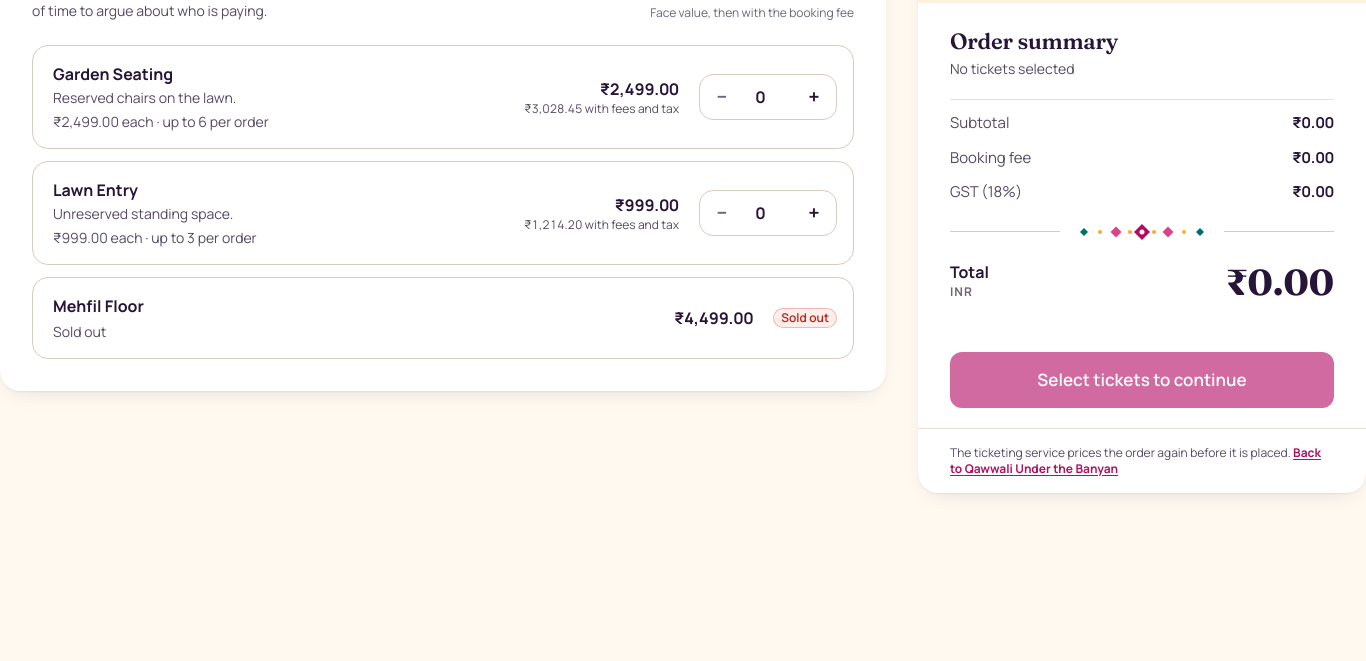
it: CheckoutBasket › clears a stale outcome as soon as the selection changes, and gives the holds back
What coordinates should you click on to do the following:
click the button named "Add one Garden Seating"
I would click on:
 (814, 97)
Its box is [792, 75, 836, 119].
(page scrolled)
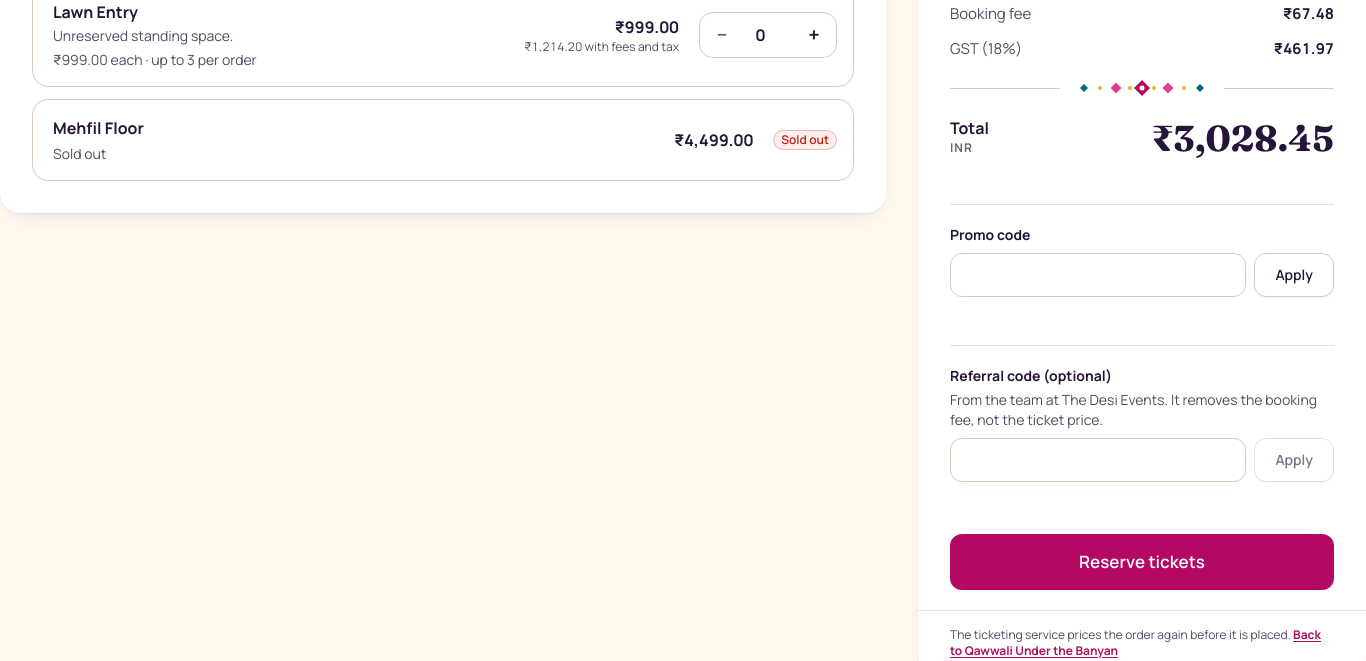
What coordinates should you click on to do the following:
click the button "Reserve tickets"
I would click on:
 (1142, 562)
Its box is [950, 534, 1334, 590].
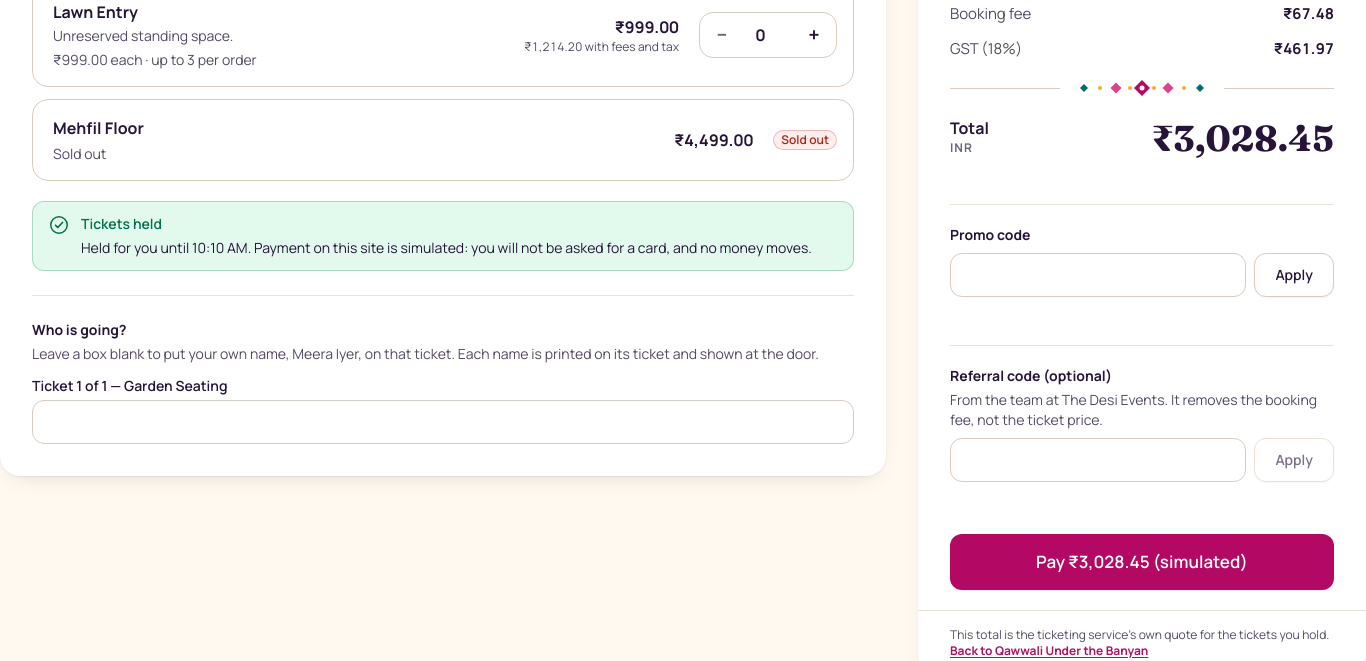
Expected: the text "Tickets held" is shown, [81, 214, 162, 233]
What coordinates should you click on to do the following:
click the button named "Add one Lawn Entry"
I would click on:
 (814, 35)
Its box is [792, 13, 836, 57].
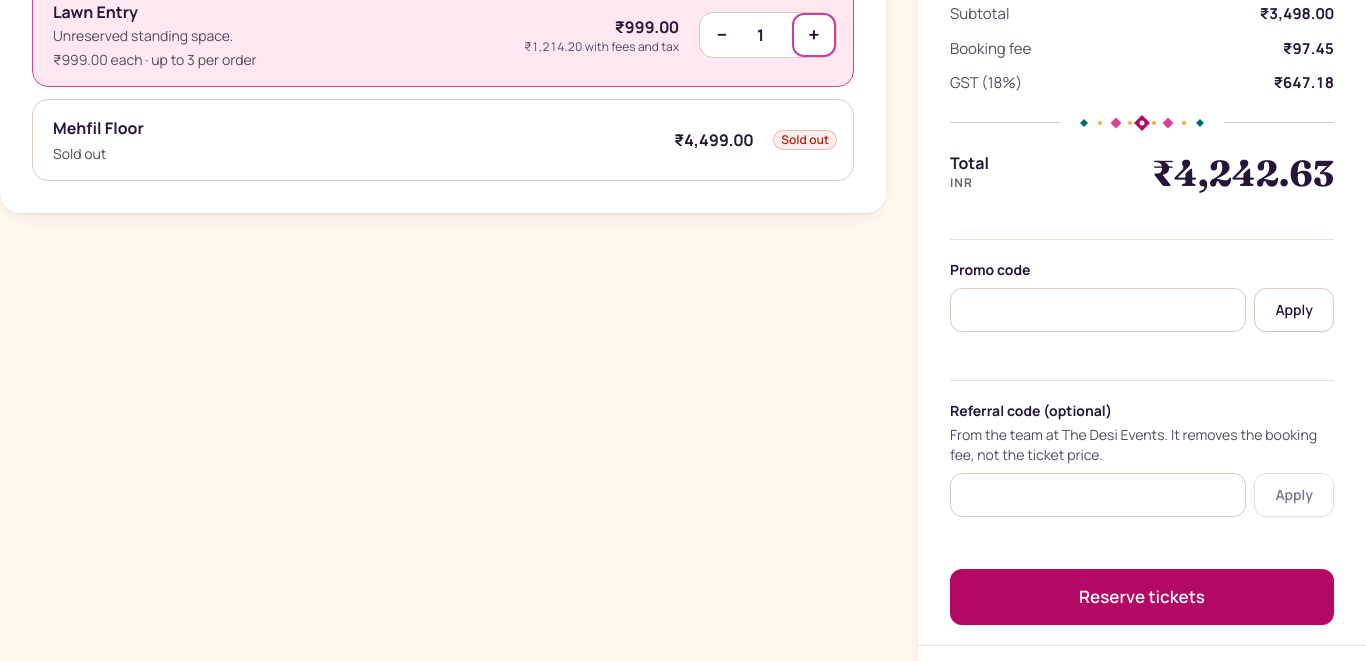
Expected: the text "Tickets held" is gone
